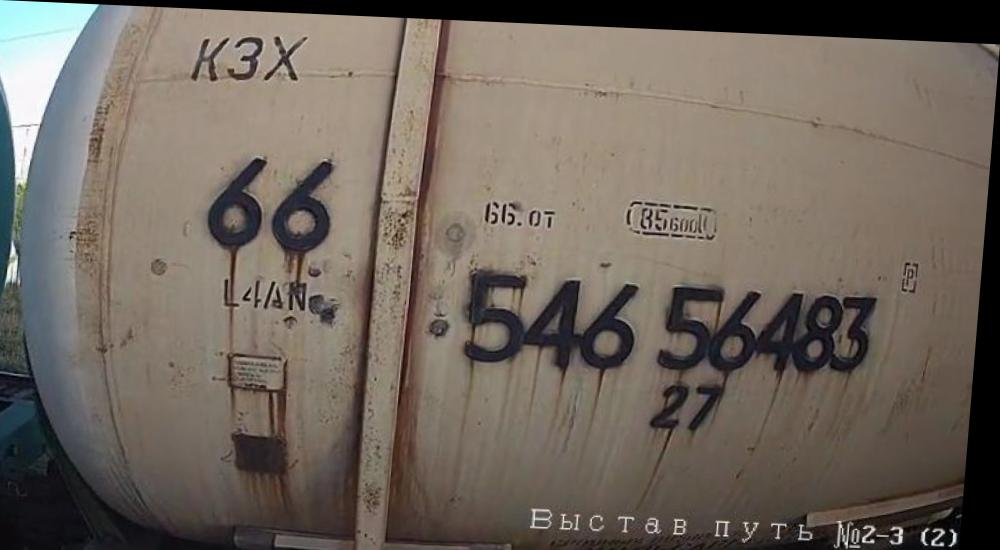Wagon-number: (462, 260, 887, 378)
